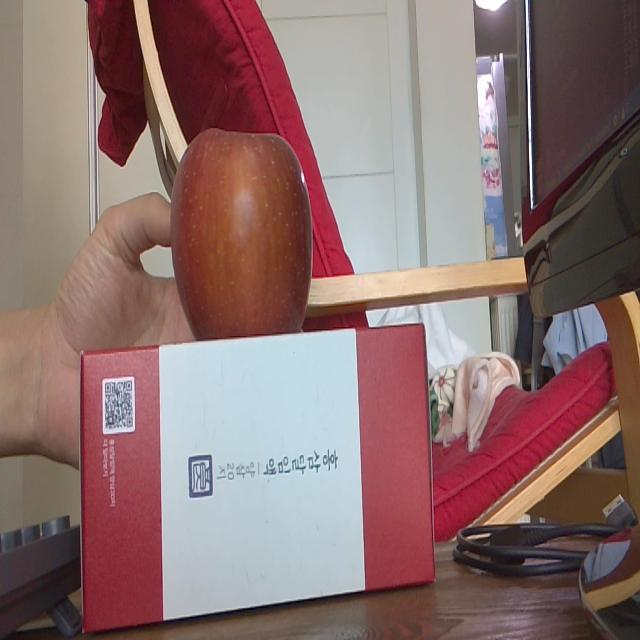apple: (170, 127, 312, 340)
